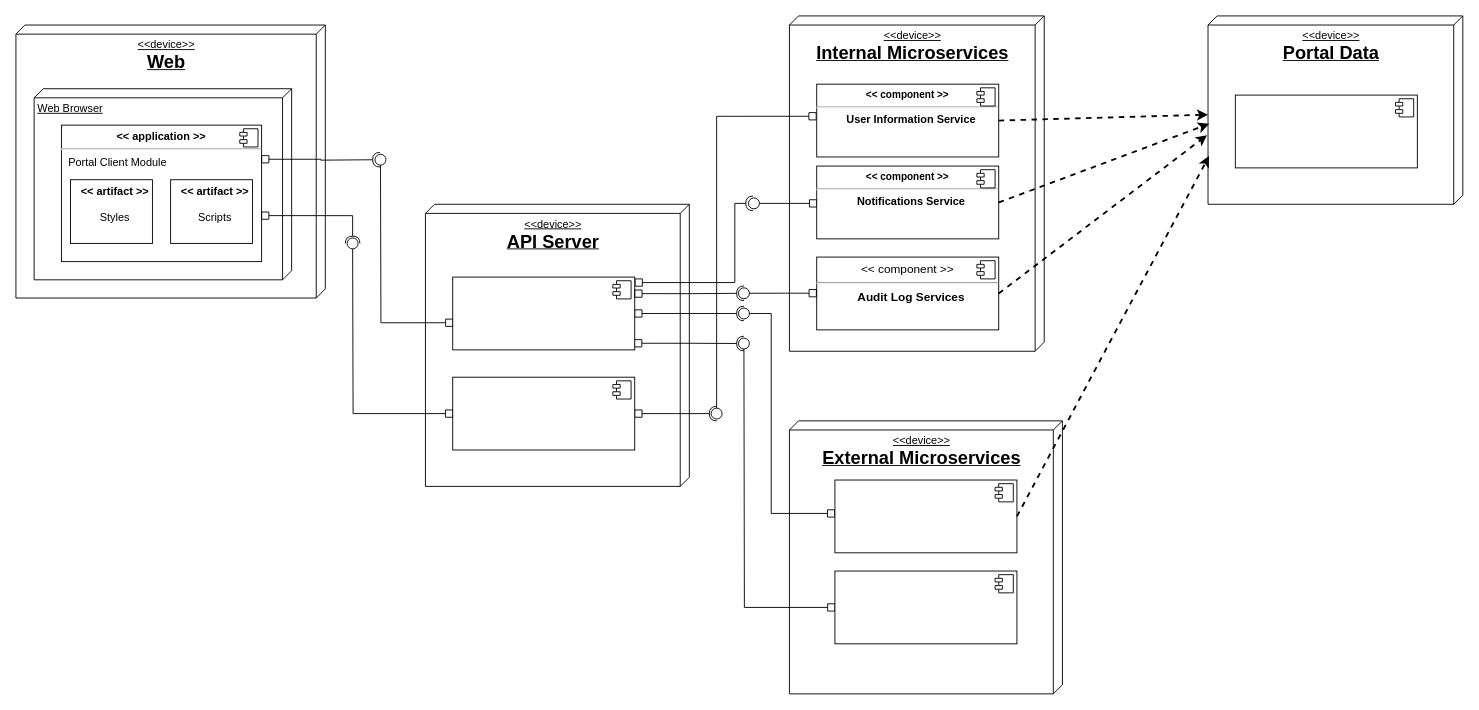
Image size: 1479x710. Some labels were removed from this diagram. Each missing label, with the centre of its shape:
<< component >> API Gateway Service: (x=543, y=313)
<< component >> Authentication: (x=543, y=413)
<< component >> Coin Information Service: (x=925, y=516)
<< component >> News Information Service: (x=925, y=607)
<< component >> Portal Dabase: (x=1325, y=131)
